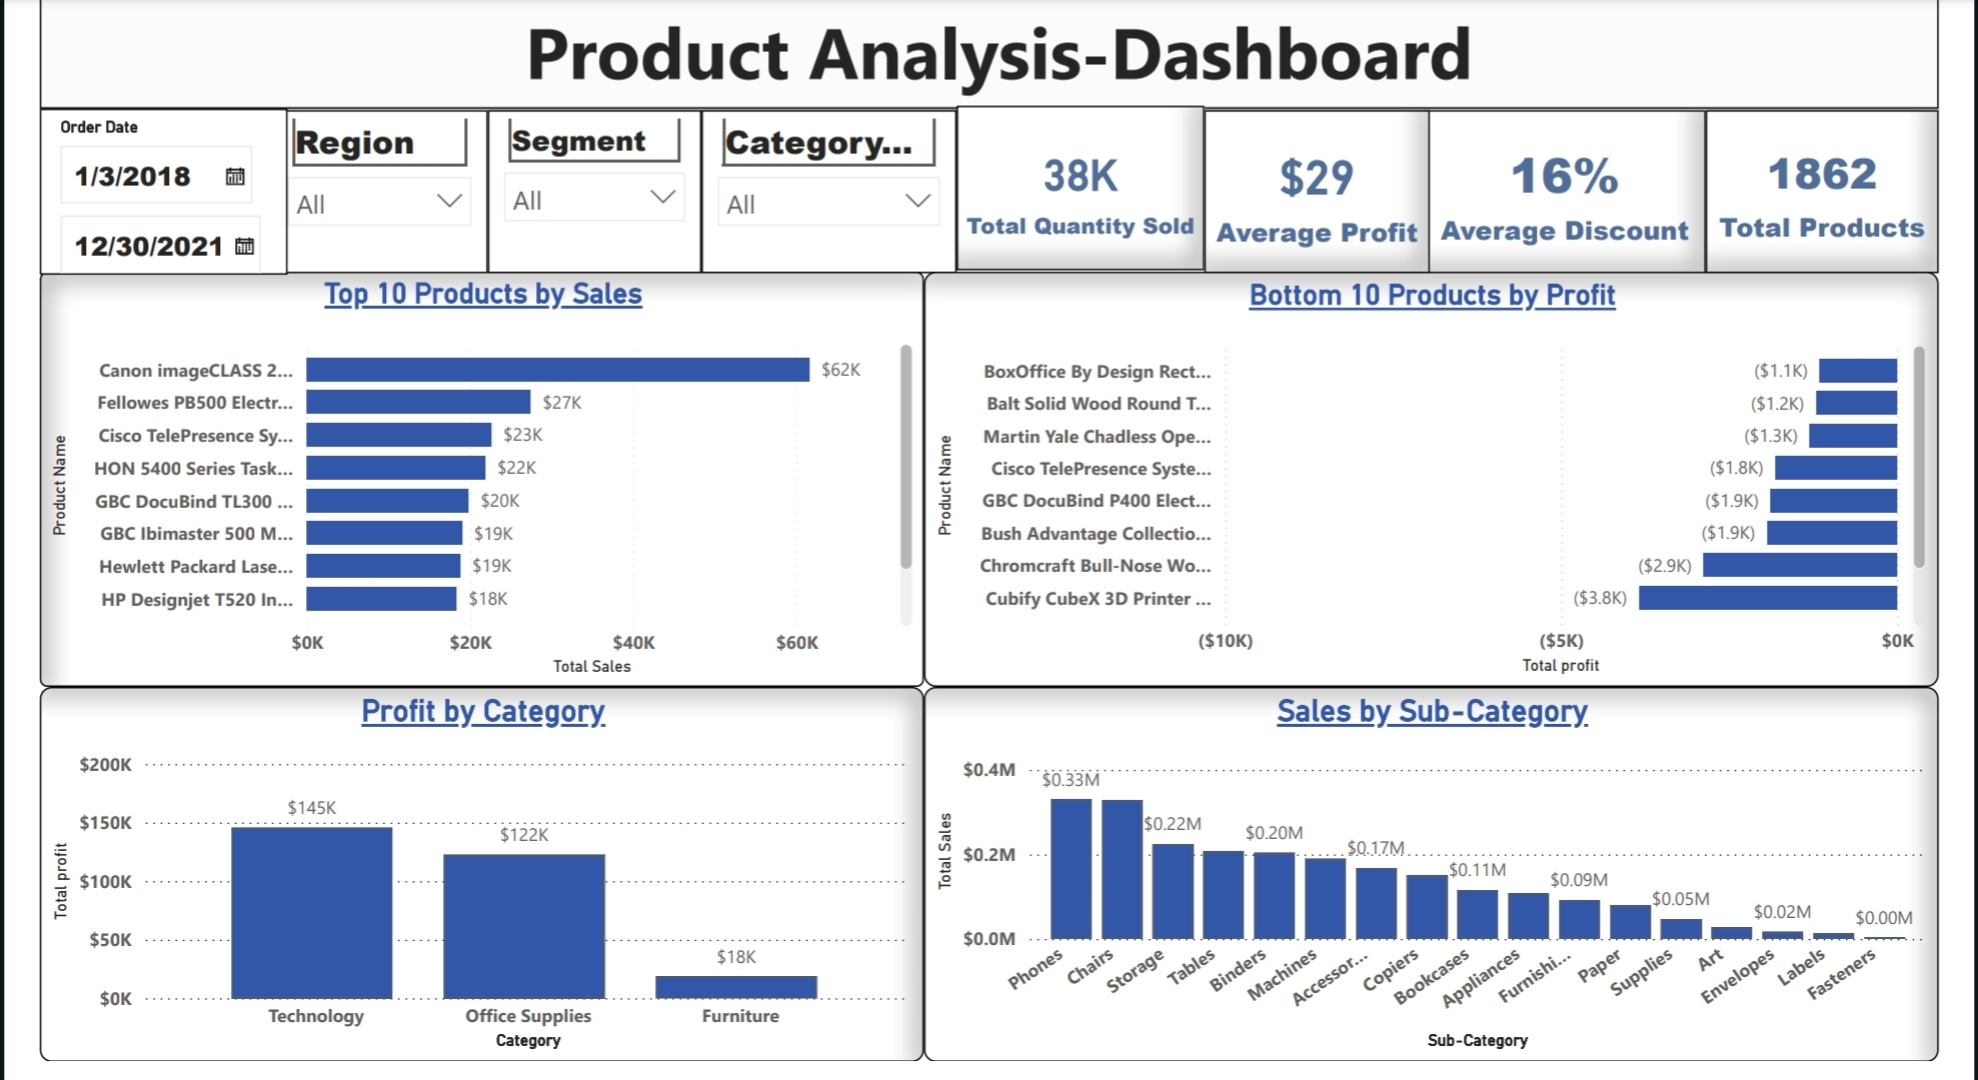

What the dashboard file says about the page in this screenshot:
{"tool":"powerbi","page":{"name":"Product Analysis","canvas":[1280,720],"ordinal":2},"visuals":[{"type":"textbox","box":[0,0,1280,78.2],"z":0},{"type":"card","fields":{"Values":["Calendar.Total Products"]},"box":[1123.2,79.2,157,109.4],"z":1000},{"type":"card","fields":{"Values":["Calendar.Total Quantity Sold"]},"box":[617.8,76.3,167.5,110.6],"z":2000},{"type":"card","fields":{"Values":["Calendar.Average Discount"]},"box":[933.1,79.2,190.1,110.9],"z":3000},{"type":"card","fields":{"Values":["Calendar.Average Profit"]},"box":[784.8,79.2,152.6,109.4],"z":4000},{"type":"slicer","fields":{"Values":["Orders.Region"]},"box":[155.5,79.2,146.9,110.9],"z":5000},{"type":"slicer","fields":{"Values":["Orders.Category","Orders.Sub-Category"]},"box":[446.4,79.2,171.4,109.4],"z":6000},{"type":"slicer","fields":{"Values":["Orders.Segment"]},"box":[302.4,79.2,144,109.4],"z":7000},{"type":"barChart","title":"Top 10 Products by Sales","fields":{"Category":["Orders.Product Name"],"Y":["Calendar.Total Sales"]},"box":[0,188,595.8,279.7],"z":8000},{"type":"barChart","title":"Bottom 10 Products by Profit","fields":{"Category":["Orders.Product Name"],"Y":["Calendar.Total profit"]},"box":[595.8,188,684.2,279.7],"z":9000},{"type":"columnChart","title":"Sales by Sub-Category","fields":{"Category":["Orders.Sub-Category"],"Y":["Calendar.Total Sales"]},"box":[595.8,467.8,684.2,252.8],"z":10000},{"type":"columnChart","title":"Profit by Category","fields":{"Category":["Orders.Category"],"Y":["Calendar.Total profit"]},"box":[0,467.8,595.8,252.8],"z":11000},{"type":"slicer","fields":{"Values":["Orders.Order Date"]},"box":[0,77.8,167,112.3],"z":11001}]}

Visuals, with their boxes on the page's 1280x720 design canvas (x1, y1, x2, y2). These are canvas units, not pixel positions in the 1978x1080 screenshot, which may show the page scaled, cropped or inside an application window:
textbox: x1=0 y1=0 x2=1280 y2=78
card - Calendar.Total Products: x1=1123 y1=79 x2=1280 y2=189
card - Calendar.Total Quantity Sold: x1=618 y1=76 x2=785 y2=187
card - Calendar.Average Discount: x1=933 y1=79 x2=1123 y2=190
card - Calendar.Average Profit: x1=785 y1=79 x2=937 y2=189
slicer - Orders.Region: x1=156 y1=79 x2=302 y2=190
slicer - Orders.Category x Orders.Sub-Category: x1=446 y1=79 x2=618 y2=189
slicer - Orders.Segment: x1=302 y1=79 x2=446 y2=189
"Top 10 Products by Sales" barChart: x1=0 y1=188 x2=596 y2=468
"Bottom 10 Products by Profit" barChart: x1=596 y1=188 x2=1280 y2=468
"Sales by Sub-Category" columnChart: x1=596 y1=468 x2=1280 y2=721
"Profit by Category" columnChart: x1=0 y1=468 x2=596 y2=721
slicer - Orders.Order Date: x1=0 y1=78 x2=167 y2=190
